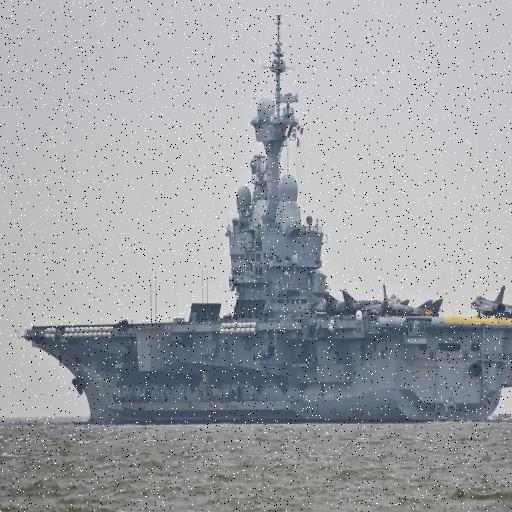Portanaves: (17, 7, 512, 428)
